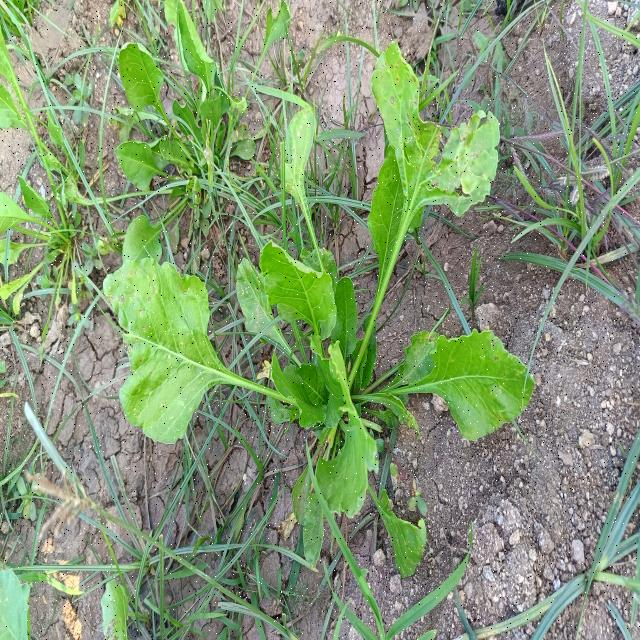half-leaf: (261, 81, 331, 318)
leaves: (326, 57, 512, 427), (83, 212, 300, 454), (351, 284, 569, 468), (310, 368, 390, 550), (263, 225, 341, 381), (229, 252, 309, 394), (109, 33, 192, 160), (172, 1, 230, 148), (96, 124, 178, 194)
